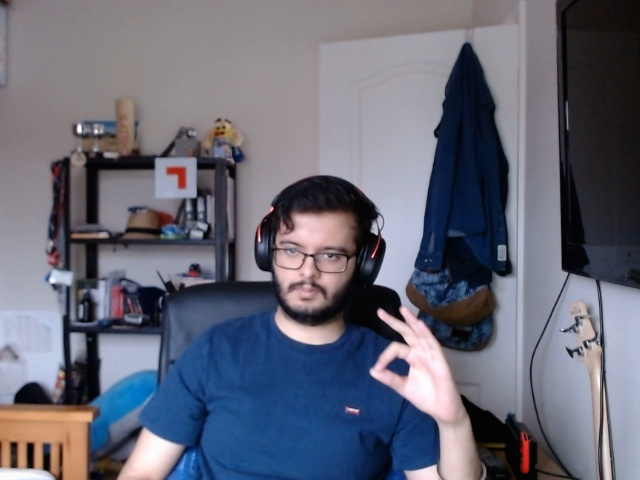Okay: (363, 299, 465, 419)
